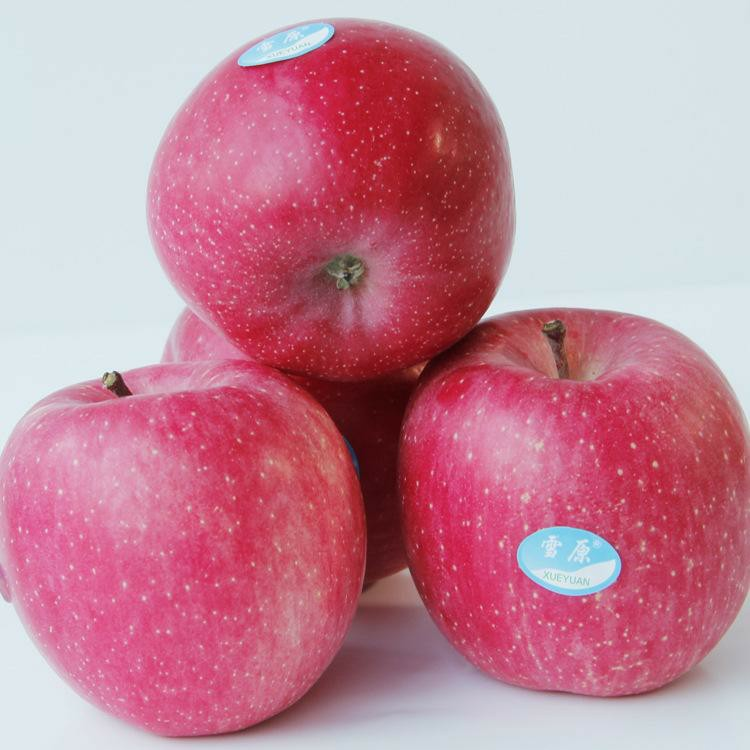fresh_apple: (399, 306, 750, 703), (4, 364, 371, 734), (148, 20, 523, 378)
